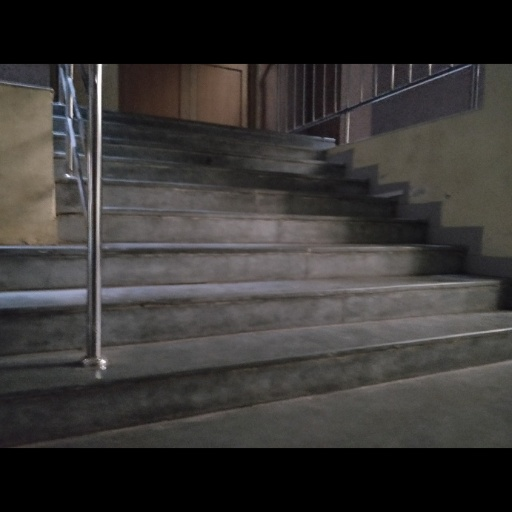Stairs: (60, 113, 512, 445)
